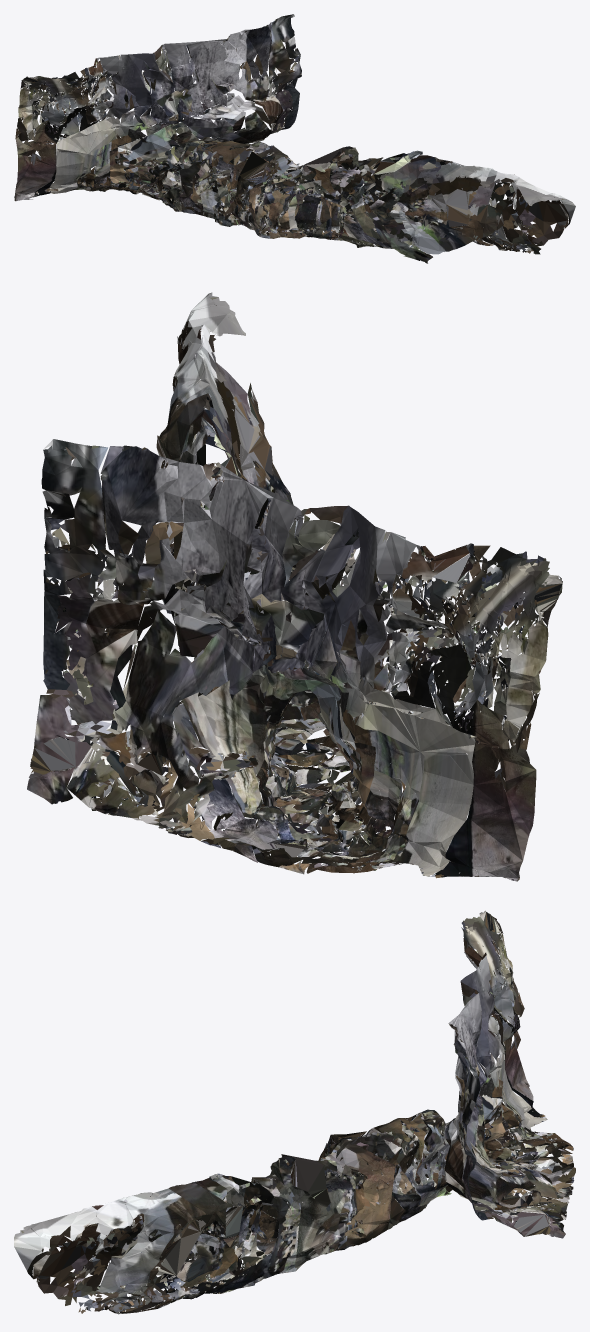
File: scan-blackarch.glb
The picture shows the model from 3 angles, top to bottom: view 1: azimuth 30°, elevation 25°; view 2: azimuth 150°, elevation 25°; view 3: azimuth 270°, elevation 25°; orthographic projection. The views are drawn at different scales.
Visible parts, largest first — view 1: scan; view 2: scan; view 3: scan.
Boxes of the visible parts, x1,y1,x2,y2 form: scan: (14, 14, 575, 263); scan: (27, 292, 562, 881); scan: (14, 910, 575, 1314).
Bounding box in the file's own units: 41.28 × 16.82 × 42.61.
Materials: 2 (2 with a texture image).
